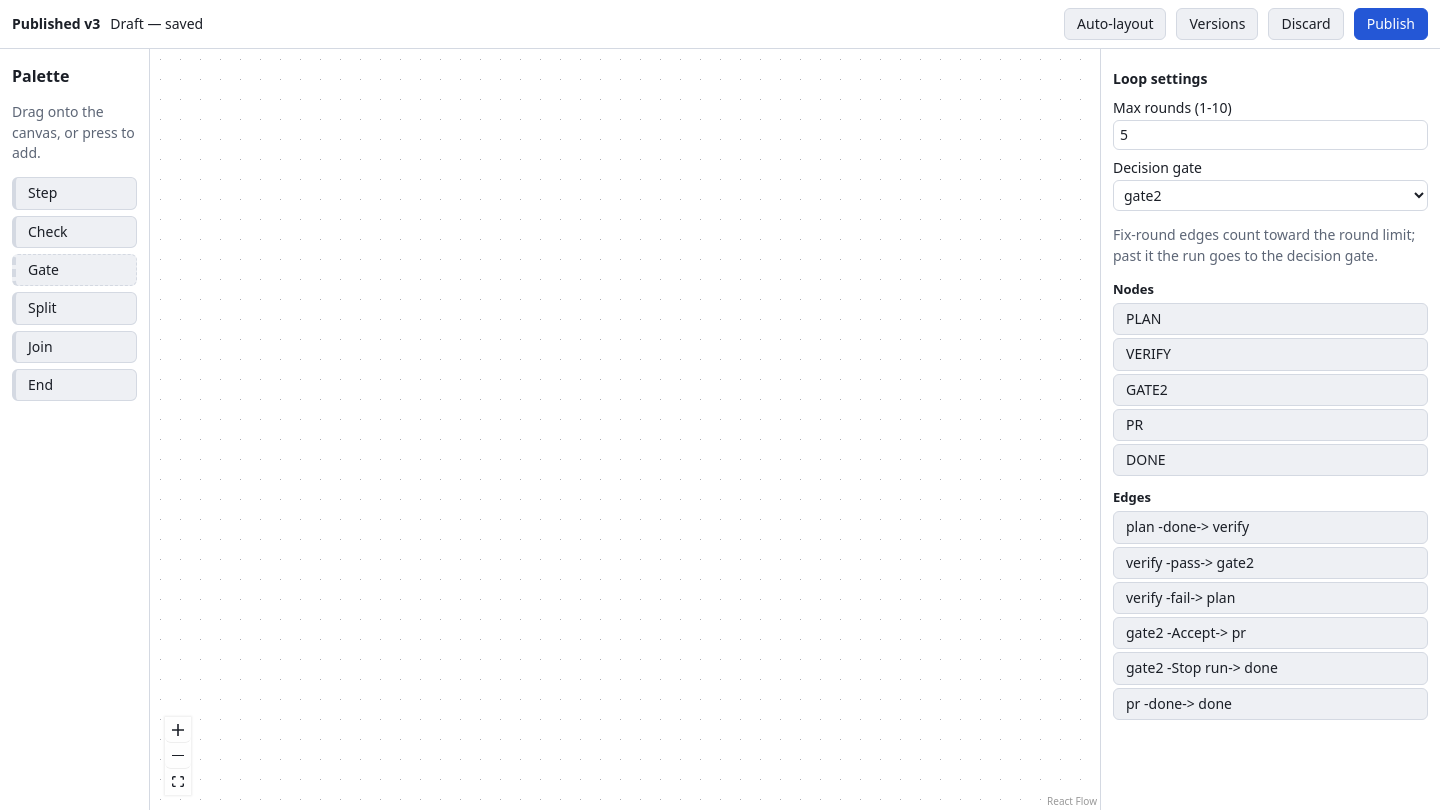
WorkflowEditor › edits every node field and the gate actions keep their edges
Check: the text "Published v3" is shown, box x1=12 y1=14 x2=100 y2=34
Click the button "GATE2" at (1147, 389), box x1=1113 y1=374 x2=1428 y2=406
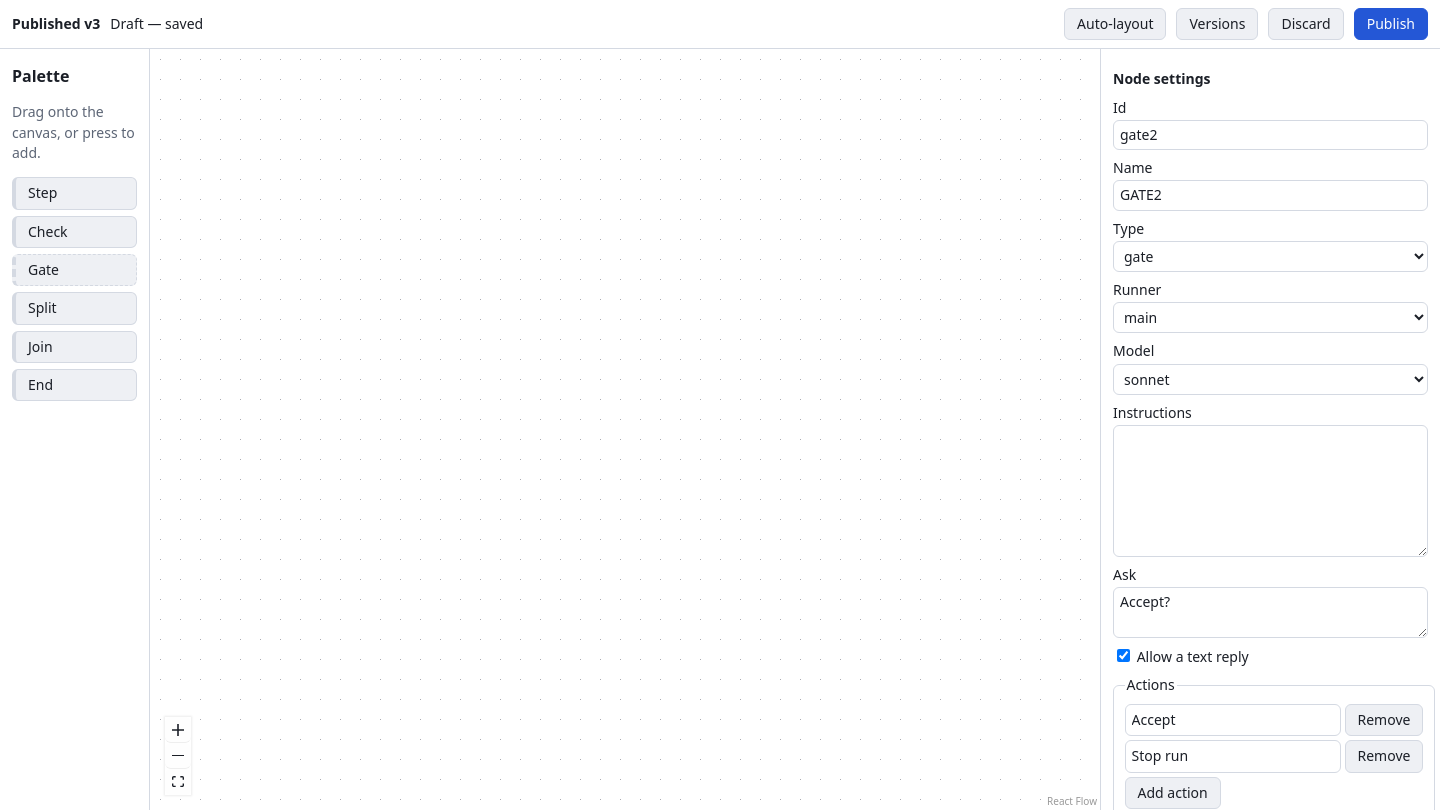
Check: the field labelled "Id" is shown, box x1=1113 y1=120 x2=1428 y2=150
Check: the text box labelled "Instructions" is shown, box x1=1113 y1=425 x2=1428 y2=557
Check: the text box labelled "Ask" is shown, box x1=1113 y1=587 x2=1428 y2=638
Replace the text in the field named "Action 1 label" with "Approve" at (1232, 720), box x1=1124 y1=704 x2=1340 y2=736
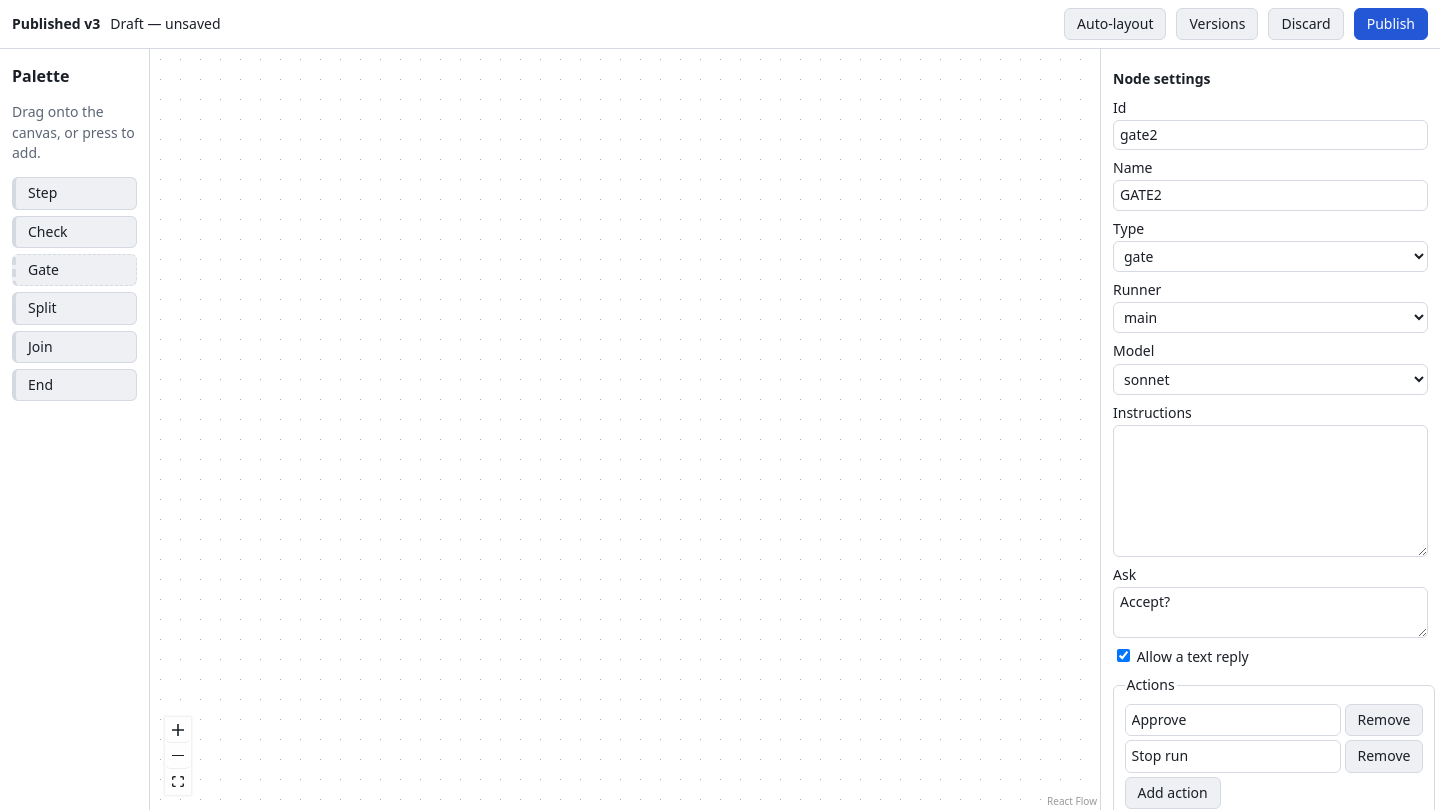
Click the button with aria-label "Remove action 2" at (1384, 757), box x1=1344 y1=740 x2=1423 y2=773
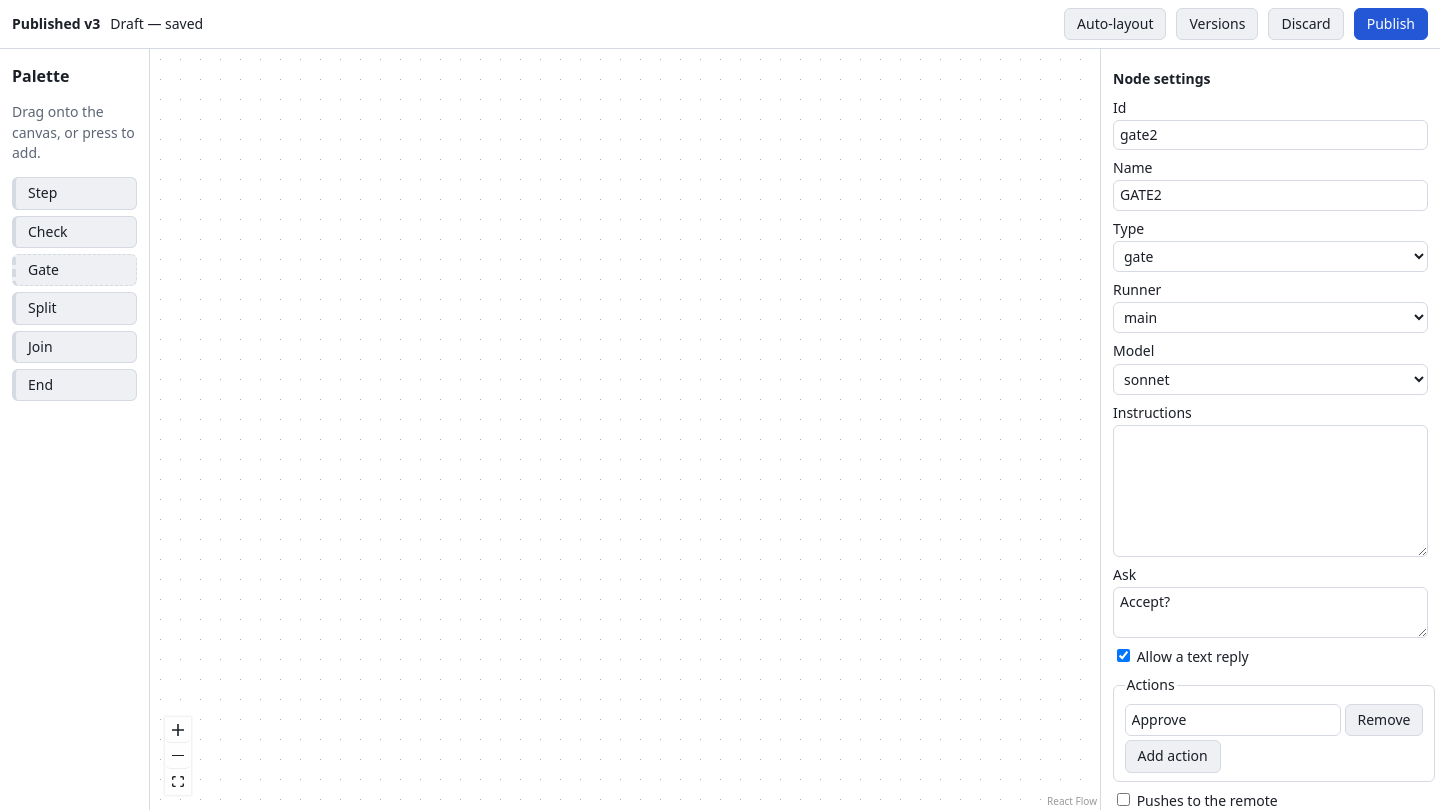
Check: the message reads "Draft — saved", box x1=110 y1=14 x2=203 y2=33
